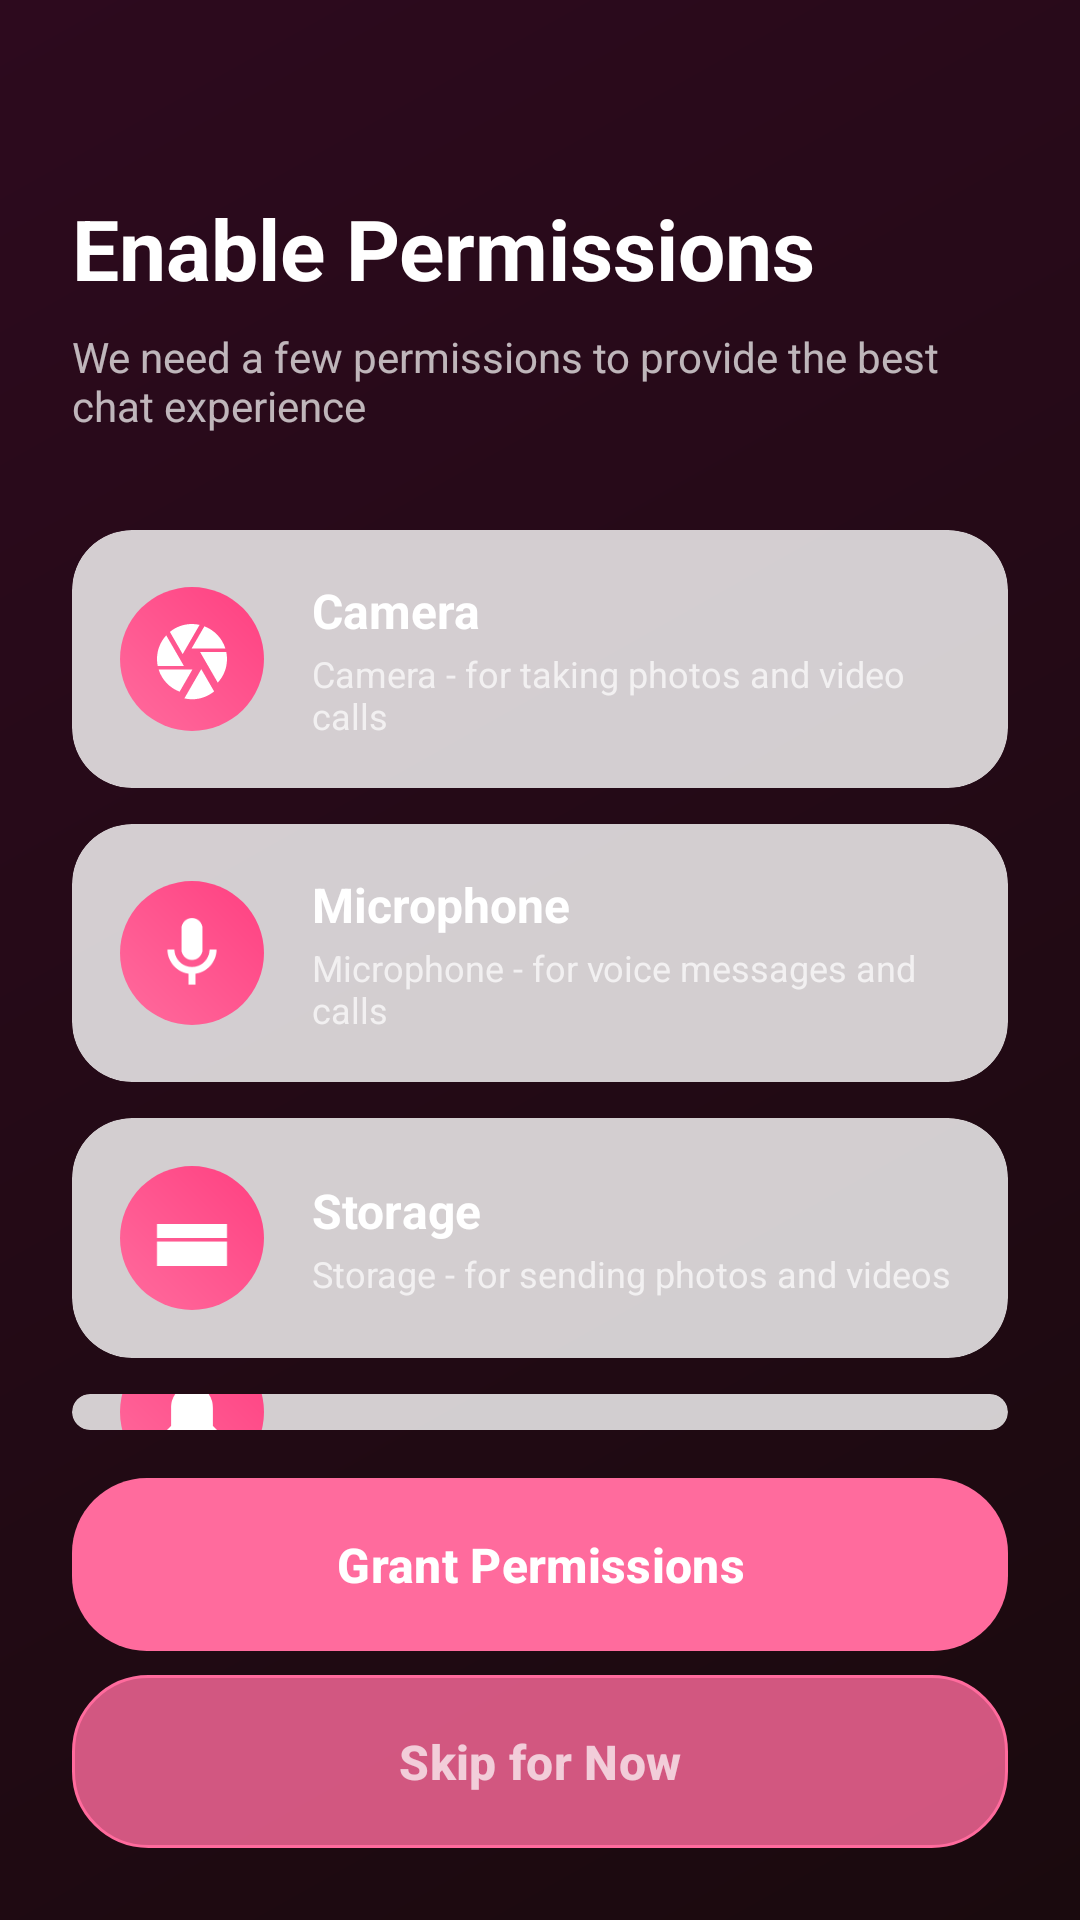

Icons on this 1080x1920 Android screen, each with the point to tap as (x,y):
mic: (192,953)
